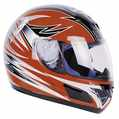helmet: (6, 9, 111, 104)
